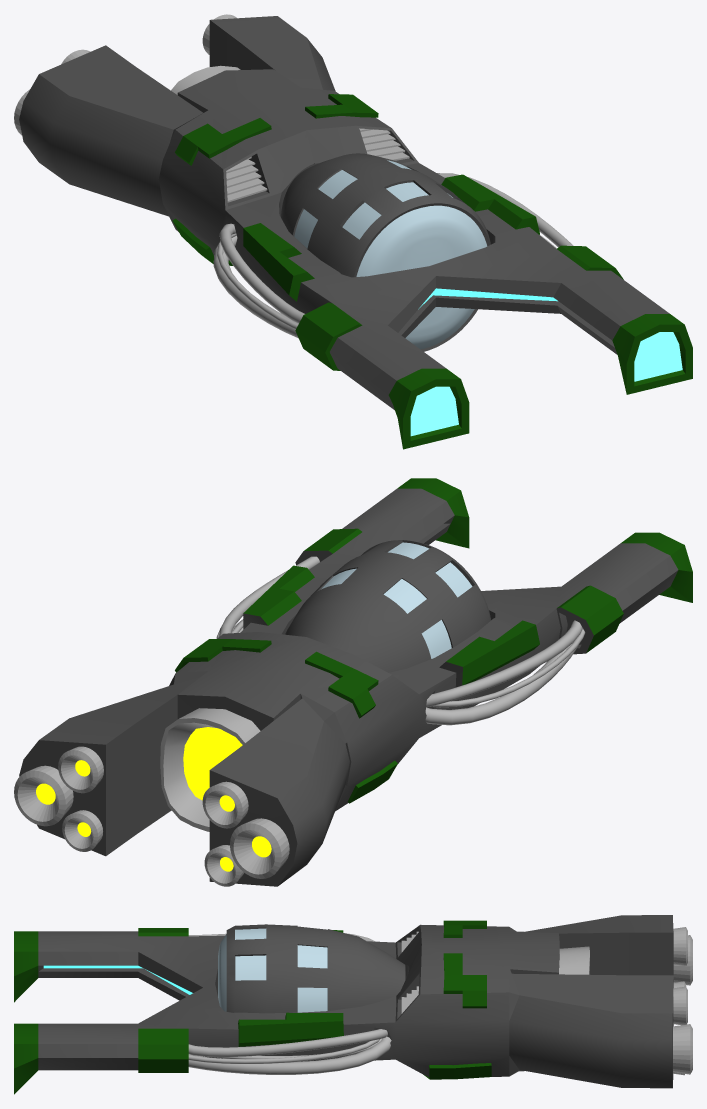
3 views of the same model, one above another, from view 1: azimuth 30°, elevation 25°; view 2: azimuth 150°, elevation 25°; view 3: azimuth 270°, elevation 25° (orthographic). The views are drawn at different scales.
Visible parts, largest first — view 1: Hull, cockpit, BezierCurve.004, BezierCurve.005, BezierCurve, BezierCurve.006; view 2: Hull, cockpit, Cylinder.002, BezierCurve.005, BezierCurve.004, Cylinder.001, Cylinder.003, BezierCurve.006, BezierCurve; view 3: Hull, cockpit, BezierCurve.001, BezierCurve, BezierCurve.003, BezierCurve.002.
Boxes of the visible parts, x1,y1,x2,y2 form: Hull: [14, 14, 692, 449]; cockpit: [281, 153, 490, 351]; BezierCurve.004: [219, 223, 304, 323]; BezierCurve.005: [213, 235, 298, 338]; BezierCurve: [437, 173, 573, 247]; BezierCurve.006: [217, 233, 298, 329]; Hull: [16, 478, 692, 886]; cockpit: [285, 540, 490, 672]; Cylinder.002: [14, 767, 73, 826]; BezierCurve.005: [425, 644, 578, 725]; BezierCurve.004: [426, 620, 582, 707]; Cylinder.001: [58, 748, 103, 793]; Cylinder.003: [62, 812, 102, 851]; BezierCurve.006: [430, 628, 585, 707]; BezierCurve: [219, 556, 319, 636]; Hull: [14, 915, 692, 1094]; cockpit: [218, 924, 406, 1013]; BezierCurve.001: [188, 1036, 391, 1074]; BezierCurve: [188, 1029, 387, 1057]; BezierCurve.003: [188, 1039, 379, 1063]; BezierCurve.002: [212, 1038, 381, 1058].
Size of the model in its own units: 3.72 by 1.9 by 8.67.
